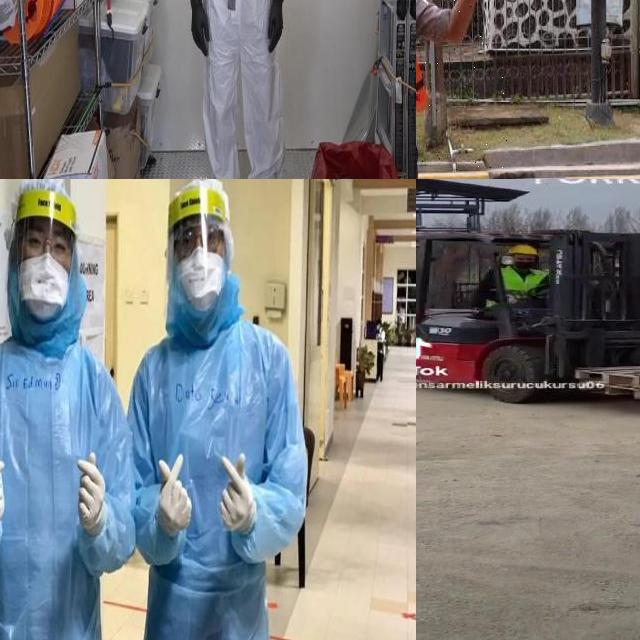Glove: (154, 454, 194, 536), (220, 453, 256, 532), (75, 452, 109, 530), (188, 0, 211, 60), (267, 0, 285, 53)
MASK: (21, 256, 70, 322), (180, 250, 224, 310)
